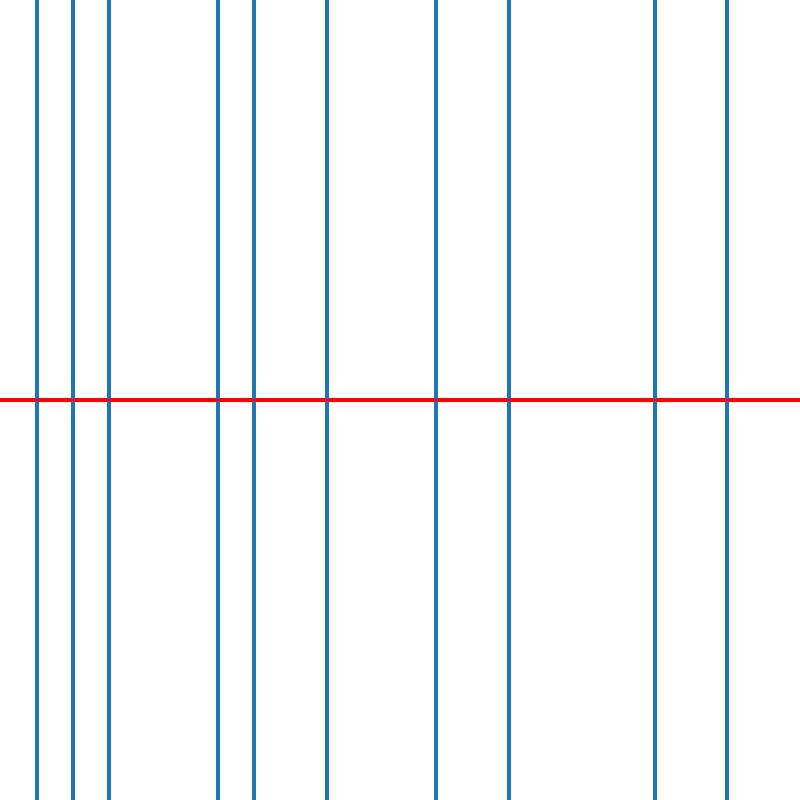root: (432, 396, 440, 404), (650, 396, 658, 404), (250, 396, 258, 404), (32, 396, 40, 404), (105, 396, 112, 404), (505, 396, 512, 404), (214, 396, 221, 404), (723, 396, 730, 404), (69, 396, 76, 404), (323, 396, 330, 404)
